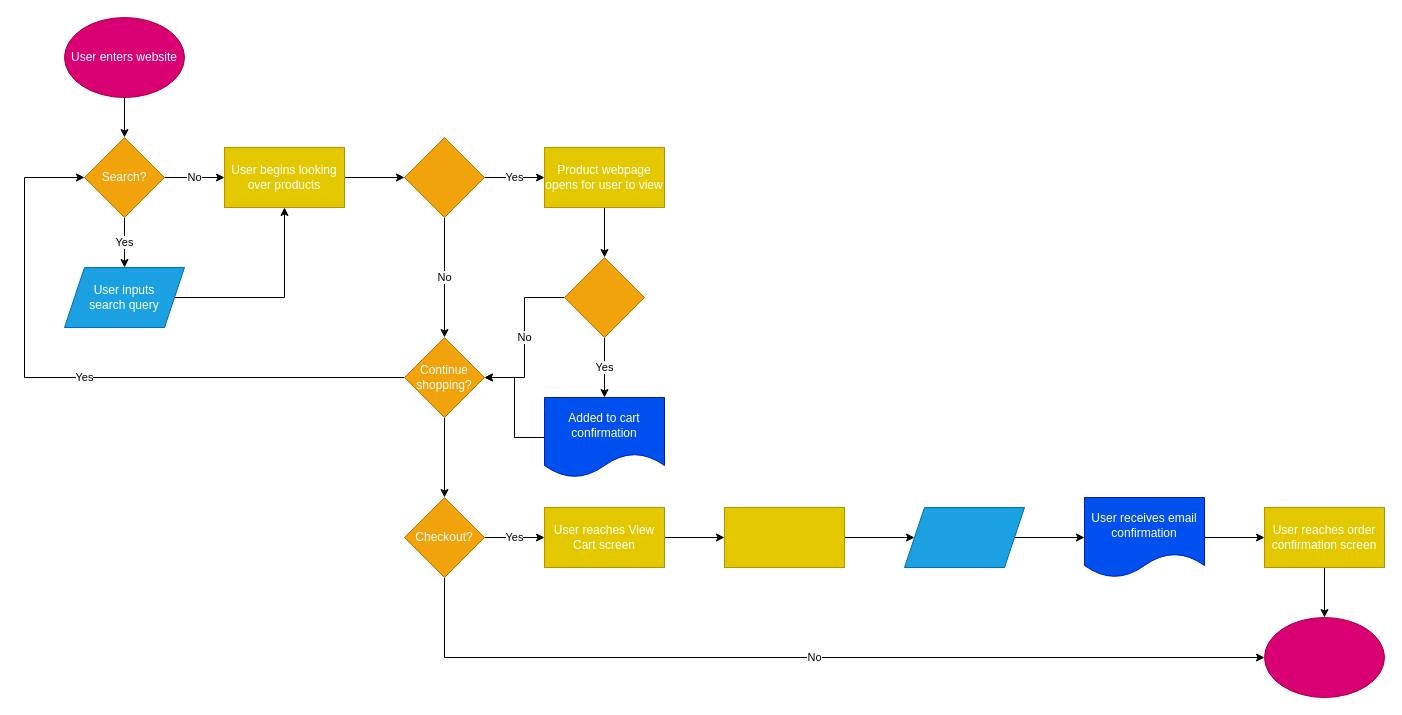
The diagram is 1402 pixels wide and 715 high, and some of its shapes have lost their labels. The centre of each missing label's shape, as x and y in pixels:
Add item to cart?: the point at 604,297
User inputs payment information: the point at 964,537
User leaves website: the point at 1324,657
User reaches View Payment screen: the point at 784,537
View specific product?: the point at 444,177
